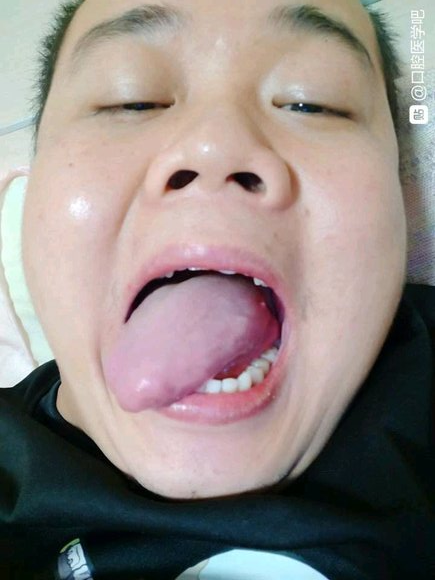baitaishe: (110, 273, 282, 412)
hongshe: (110, 273, 282, 412)
